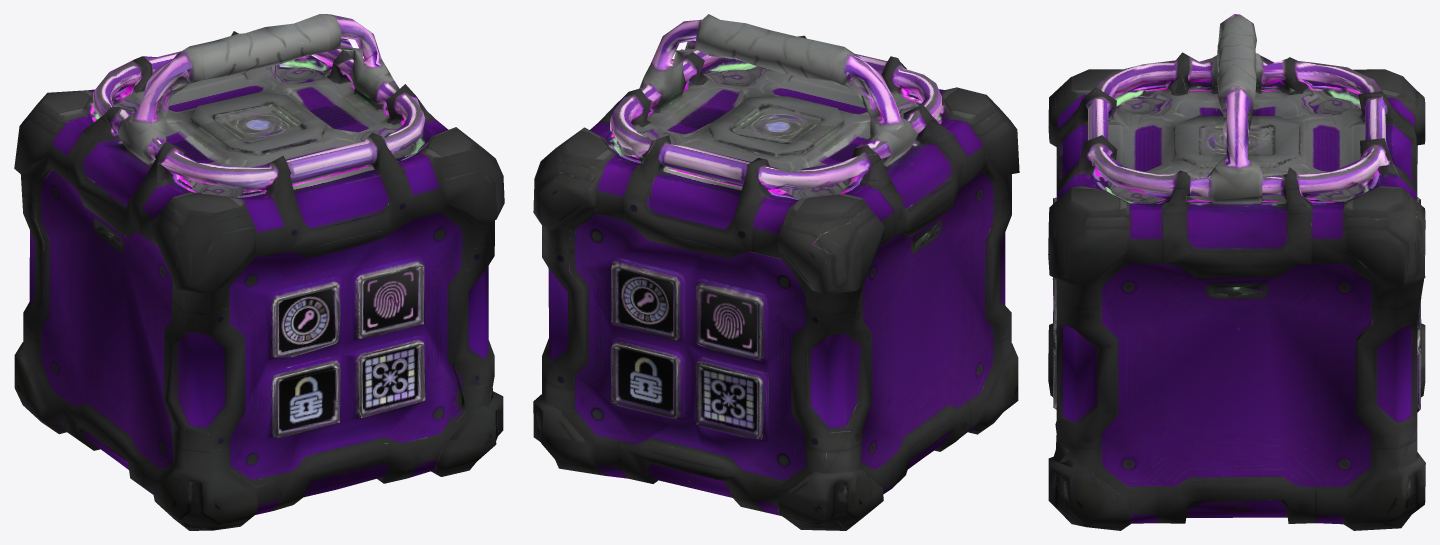
Rendered from Meshy_AI_Violet_Quantum_Vault_0401041459_texture.fbx.
The picture shows the model from 3 angles, left to right: view 1: azimuth 30°, elevation 25°; view 2: azimuth 150°, elevation 25°; view 3: azimuth 270°, elevation 25°; orthographic projection.
Visible parts, largest first — view 1: Mesh1.0; view 2: Mesh1.0; view 3: Mesh1.0.
Boxes of the visible parts, box(x1,y1,x2,y2) form: Mesh1.0: box(14, 14, 504, 530); Mesh1.0: box(533, 14, 1019, 530); Mesh1.0: box(1048, 14, 1425, 530).
Bounding box in the file's own units: 158 × 191 × 158.
Materials: 1 (1 with a texture image).
